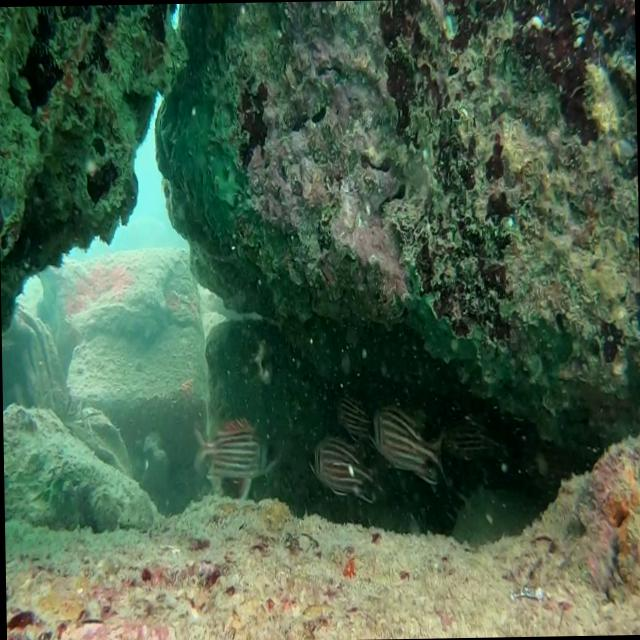Asker Baligi: (358, 390, 448, 488), (190, 410, 280, 502), (436, 404, 516, 476), (308, 430, 371, 515), (337, 393, 368, 440)
